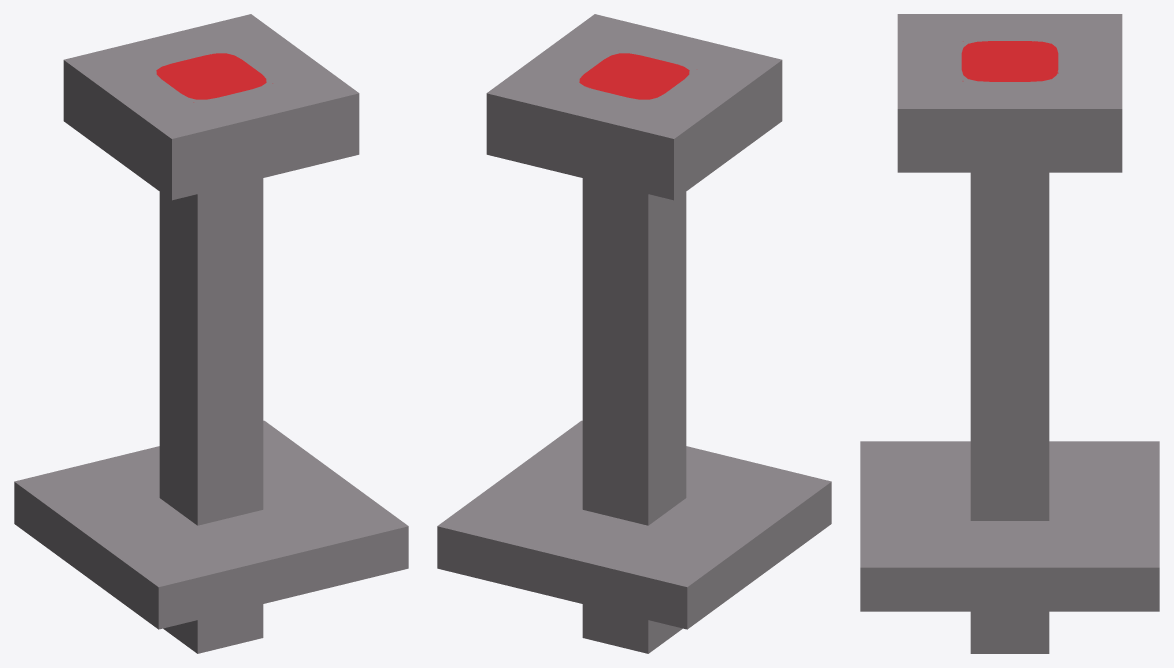
Rendered from hidraulicPress.fbx.
The picture shows the model from 3 angles, left to right: view 1: azimuth 30°, elevation 25°; view 2: azimuth 150°, elevation 25°; view 3: azimuth 270°, elevation 25°; orthographic projection. The views are drawn at different scales.
Parts seen in each view (by area): view 1: Cube.001, Cube; view 2: Cube.001, Cube; view 3: Cube.001, Cube.
Part boxes in pixels (x1,y1,x2,y2): Cube.001: (63, 14, 359, 653); Cube: (14, 420, 408, 629); Cube.001: (486, 14, 782, 653); Cube: (437, 420, 831, 629); Cube.001: (897, 14, 1122, 653); Cube: (860, 441, 1159, 611).
Bounding box in the file's own units: 40 × 84.88 × 40.
